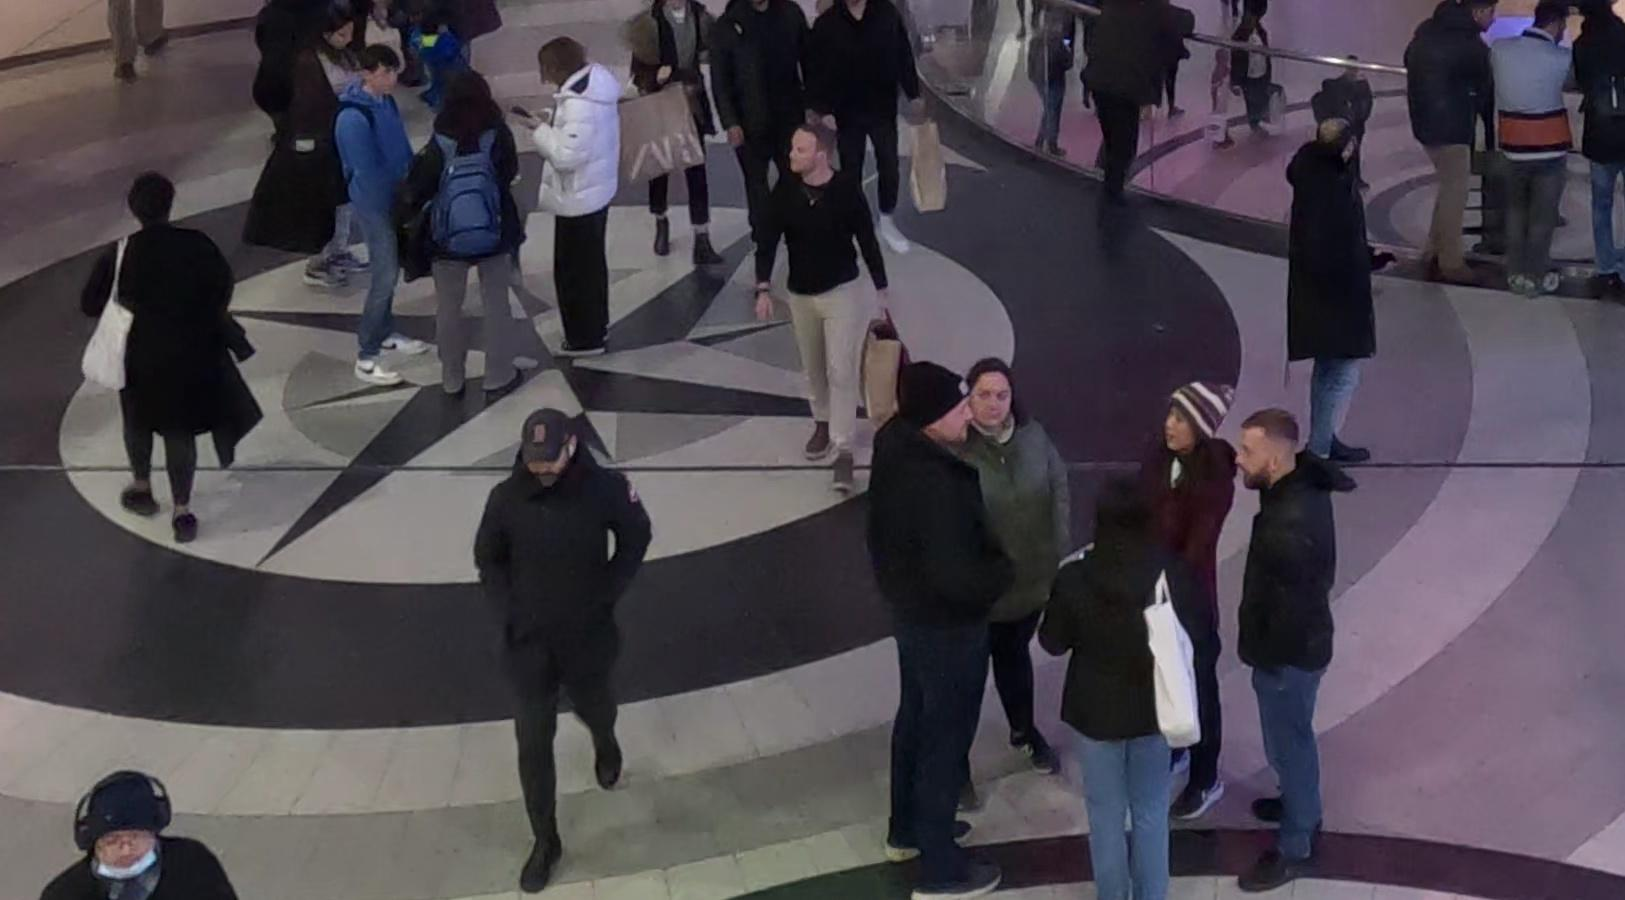person: (462, 404, 642, 900), (876, 363, 1033, 900), (94, 165, 258, 548), (1051, 462, 1195, 896), (1218, 398, 1335, 900), (770, 121, 899, 483), (1284, 91, 1393, 502), (331, 35, 433, 395), (5, 756, 262, 898), (525, 33, 628, 382)
